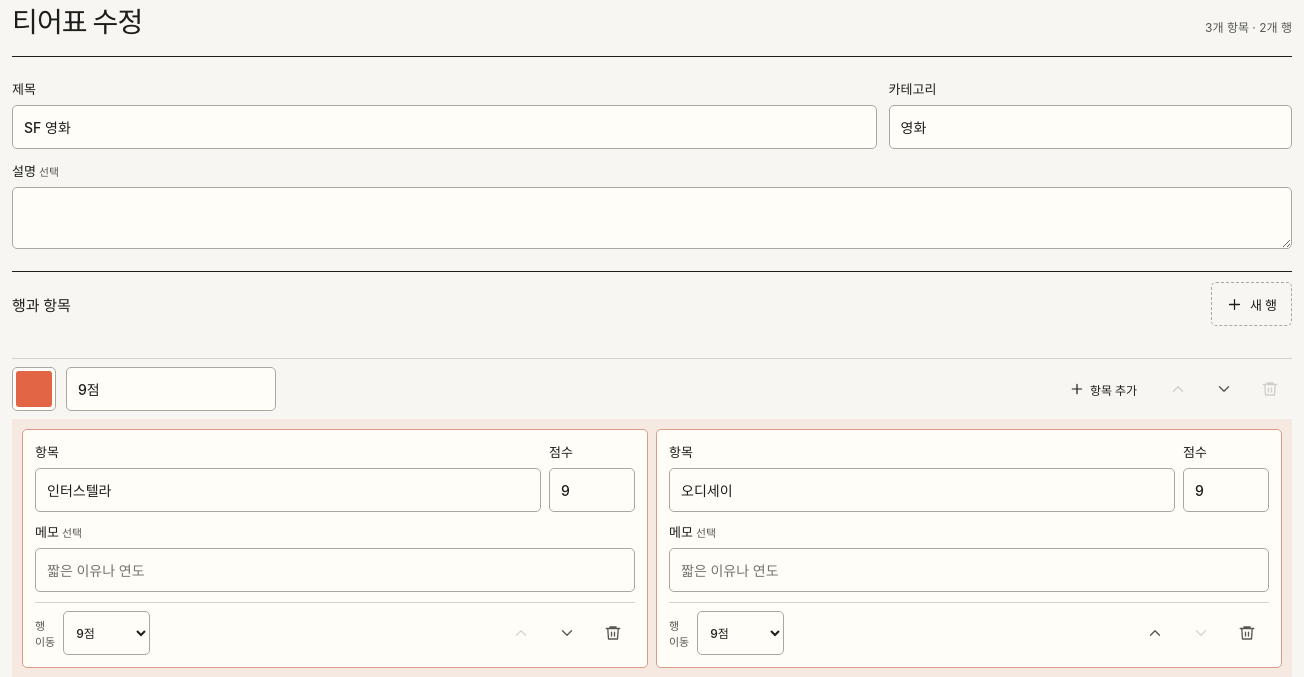
BoardEditor › creates a new row from the row toolbar
Click the button named "새 행 만들기" at (1252, 304), box [1211,282,1292,326]
(page scrolled)
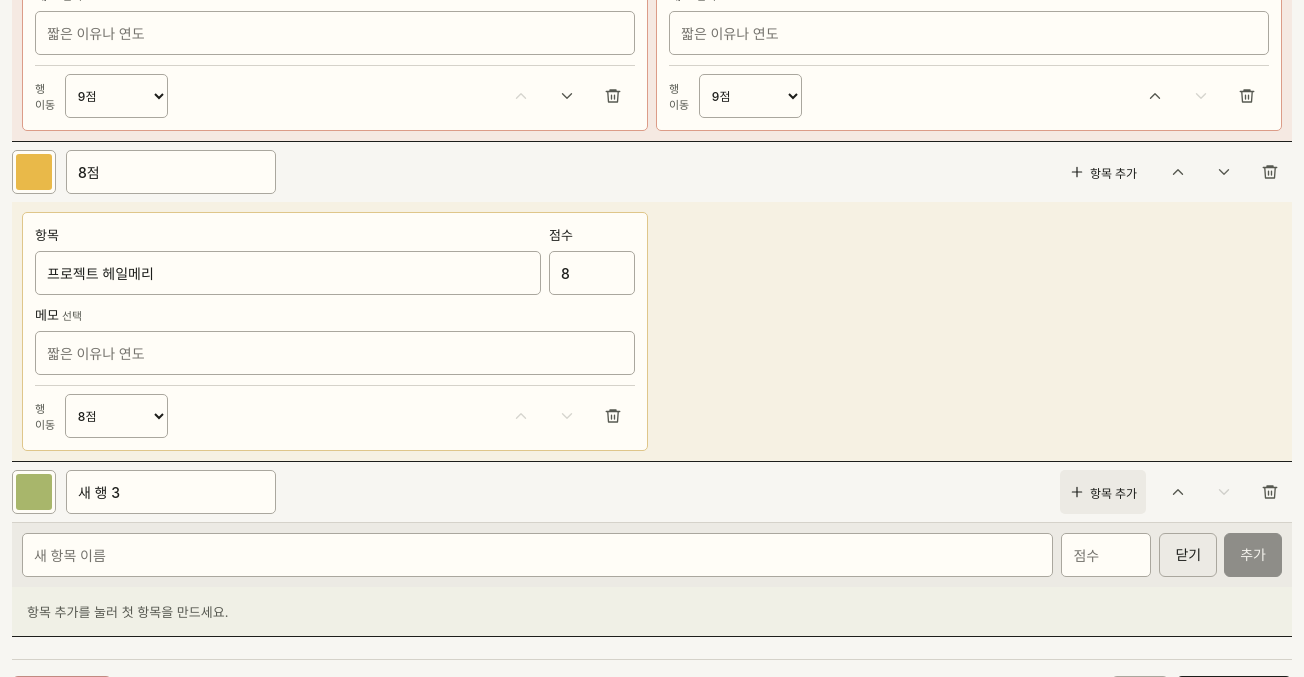
Now the 2nd field named "행 이름" holds "새 행 3", box [66,470,276,514]
Now the element named "새 행 3 새 항목" is shown, box [12,522,1292,587]
